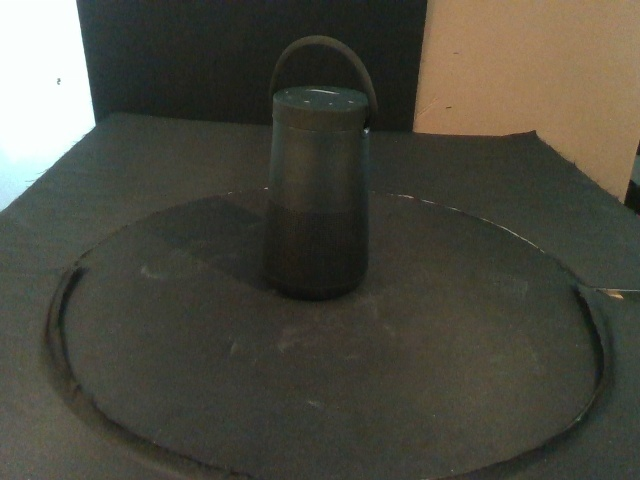speaker: (260, 84, 371, 301)
